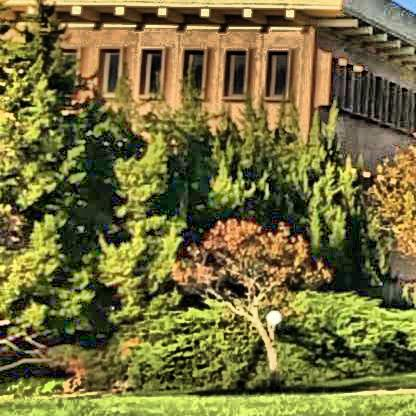golfball: (263, 306, 280, 321)
